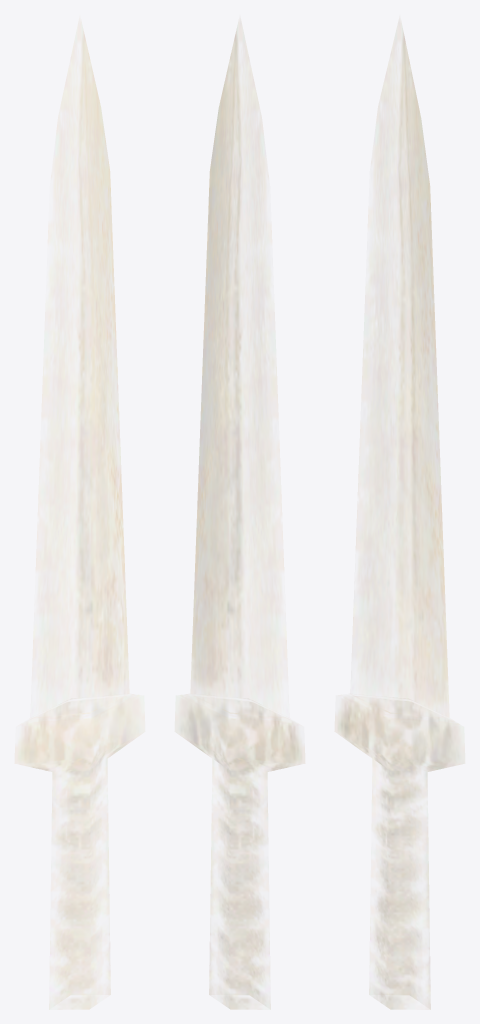
Rendered from eff_dagger-a048a223.glb.
3 views of the same model, side by side, from view 1: azimuth 30°, elevation 25°; view 2: azimuth 150°, elevation 25°; view 3: azimuth 330°, elevation 25° (orthographic).
Parts seen in each view (by area): view 1: Eff_dagger; view 2: Eff_dagger; view 3: Eff_dagger.
Boxes of the visible parts, x1,y1,x2,y2 form: Eff_dagger: (15, 18, 144, 1009); Eff_dagger: (175, 18, 304, 1009); Eff_dagger: (335, 18, 464, 1009).
Bounding box in the file's own units: 0.0706 × 0.5089 × 0.0231.
1 material, 1 textured.
